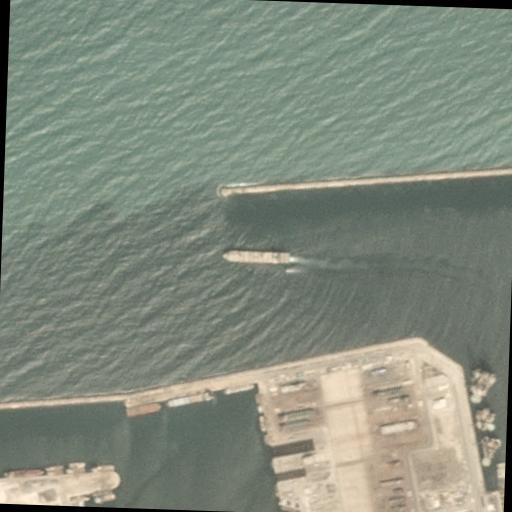ship: (221, 246, 291, 266)
